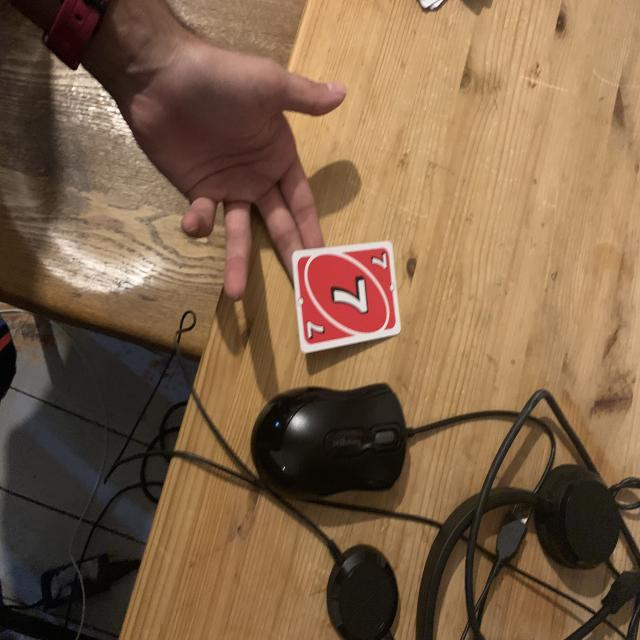lred-7: (365, 248, 389, 274)
